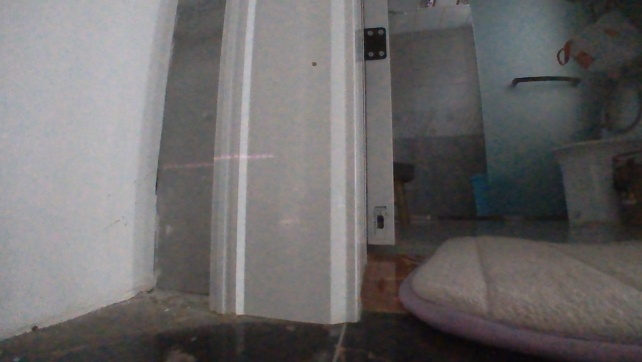blanket: (395, 230, 641, 361)
toilet: (547, 75, 641, 227)
